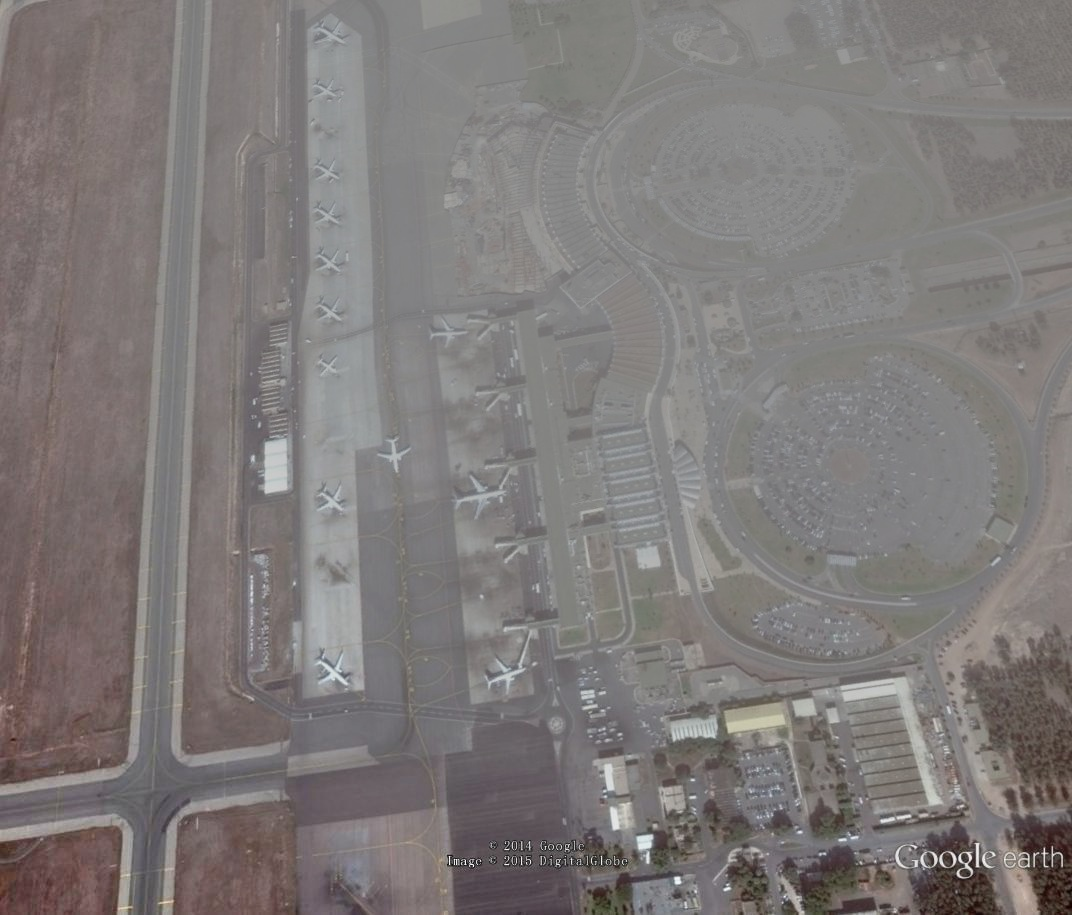aircraft: (452, 471, 508, 523), (482, 654, 529, 696), (313, 650, 355, 694), (425, 315, 472, 352), (375, 435, 413, 479), (313, 483, 347, 516), (312, 245, 347, 277), (312, 20, 351, 48), (312, 297, 345, 327), (310, 200, 343, 229), (310, 77, 342, 103), (310, 158, 343, 183), (315, 356, 344, 379)
